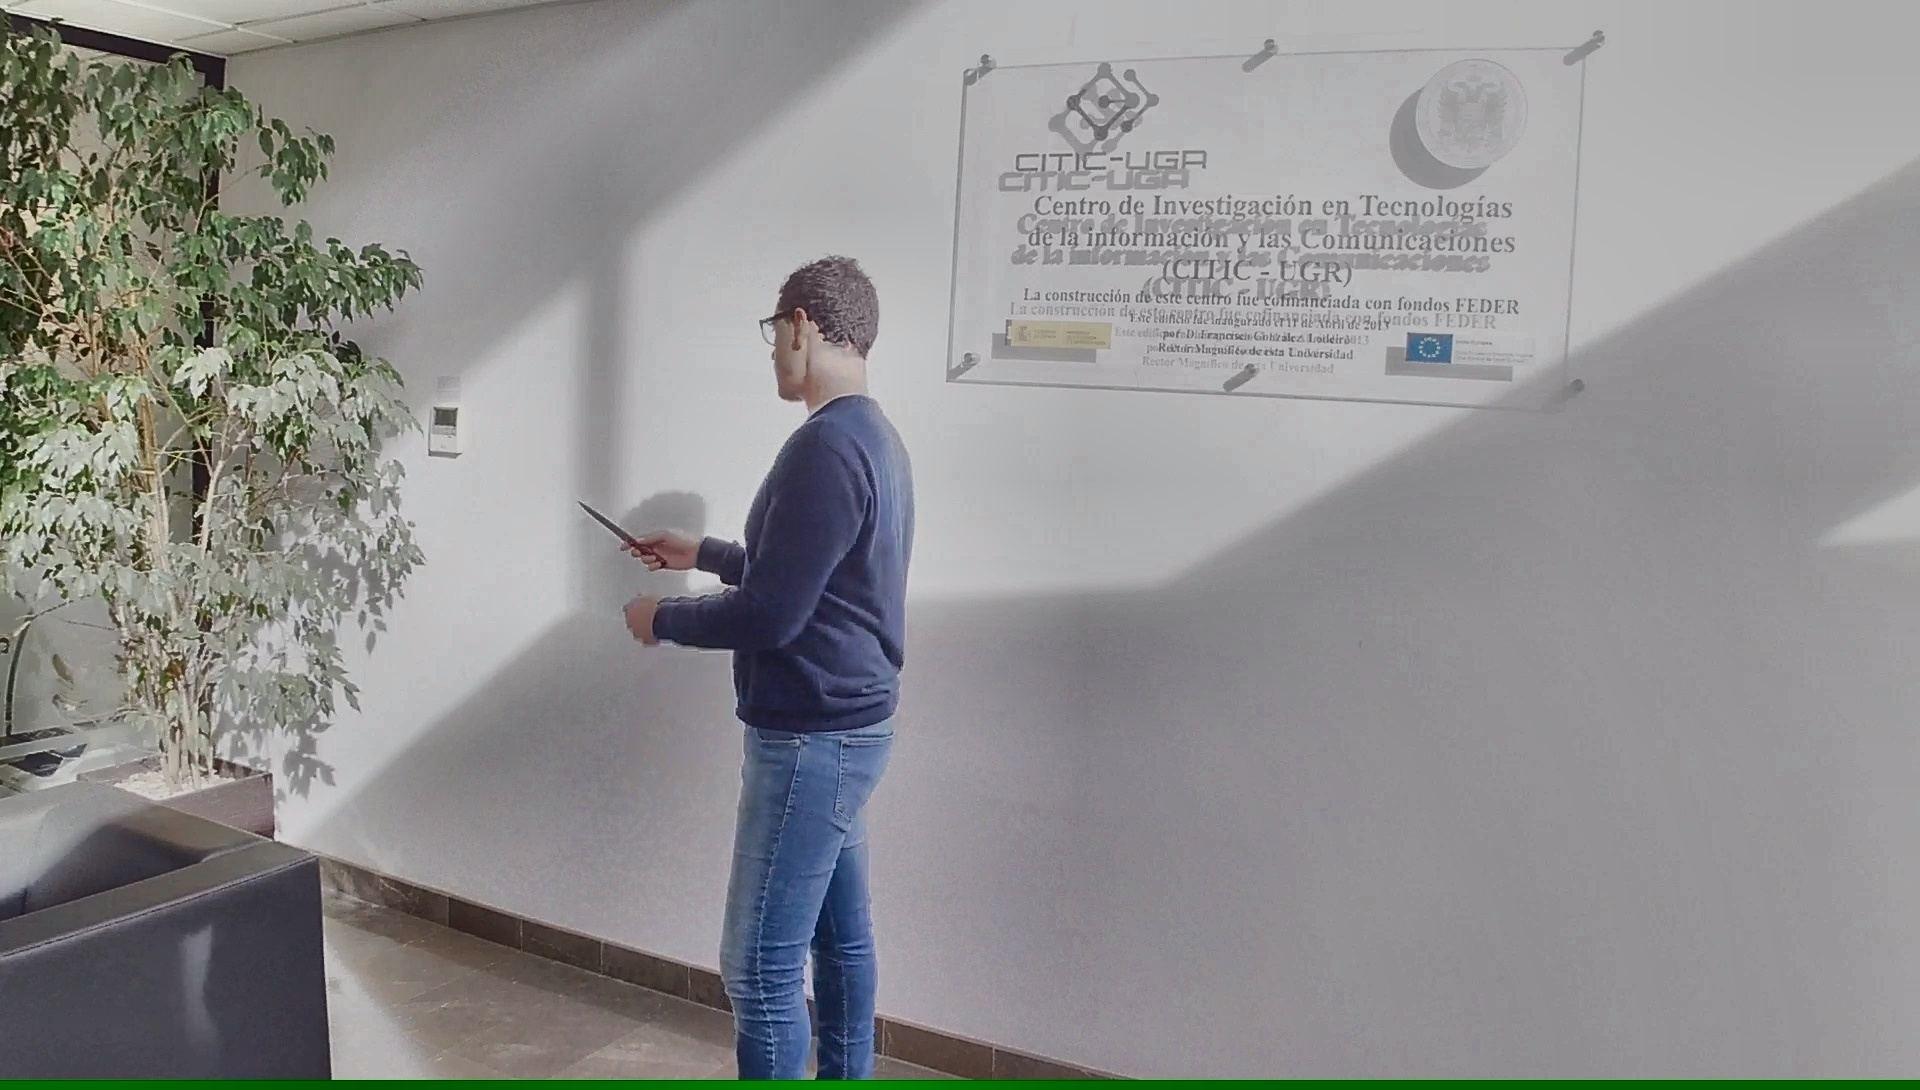knife: (572, 493, 673, 575)
